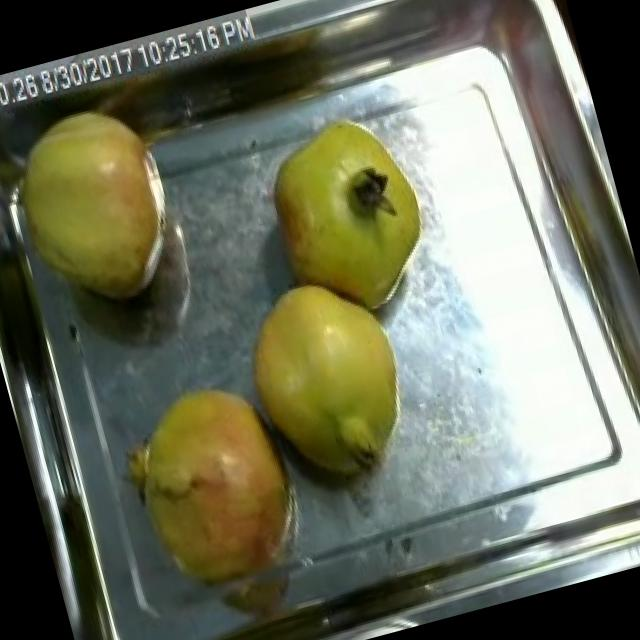fruit: (104, 349, 332, 631), (214, 251, 436, 513), (0, 87, 201, 330), (242, 94, 448, 330)
